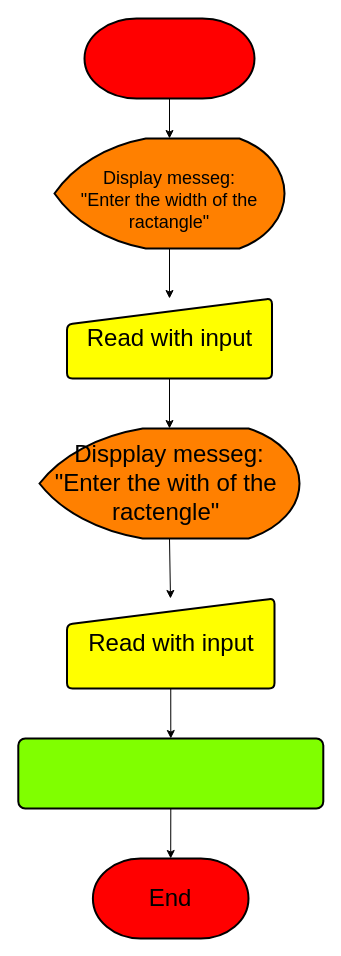
This 341x956 diagram has some shape labels left out. The shapes that lost their labels are listed below. From the top down, each one's box as (x1, y1, x2, y2) in pixels, then its label:
(83, 17, 255, 99): start
(17, 737, 324, 809): Calculate arae = width * heigth
